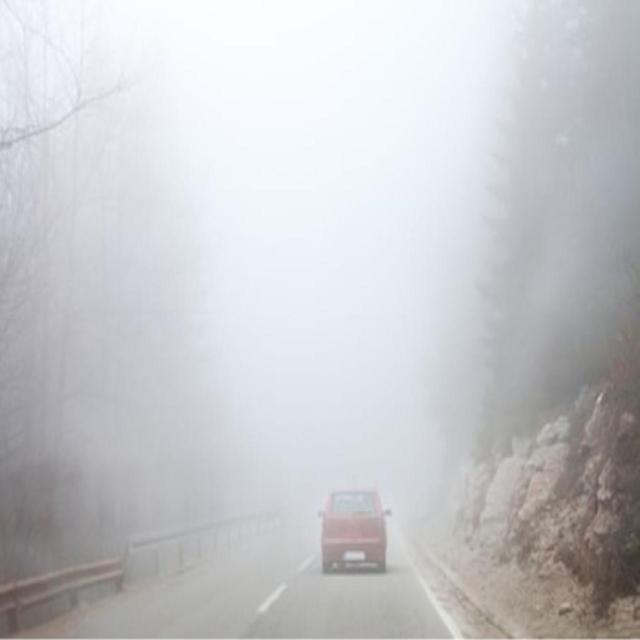Van: (315, 486, 394, 578)
